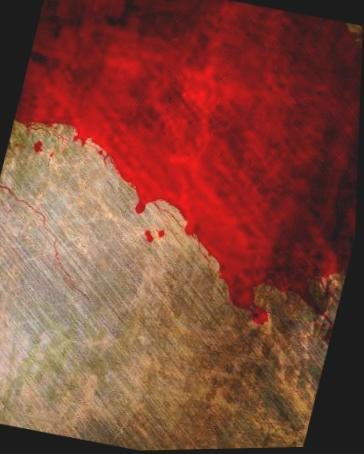Fire: (16, 0, 363, 325)
